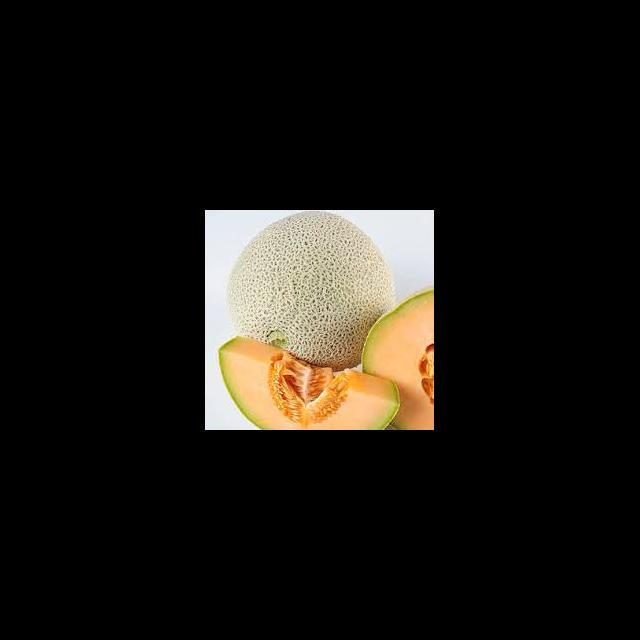Hami Melon: (228, 211, 396, 369), (219, 336, 402, 430)
